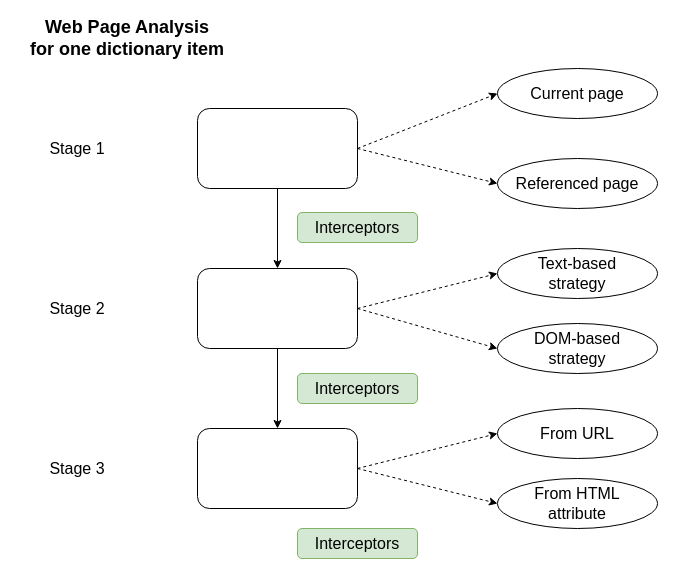
The diagram is 675 pixels wide and 576 high, and some of its shapes have lost their labels. The shapes that lost their labels are listed below. From the top down, each one's centre as x and y in pixels, then its label:
(277,148): Where to search download links?
(277,308): What to download? Get download links.
(277,468): Under which file names?
